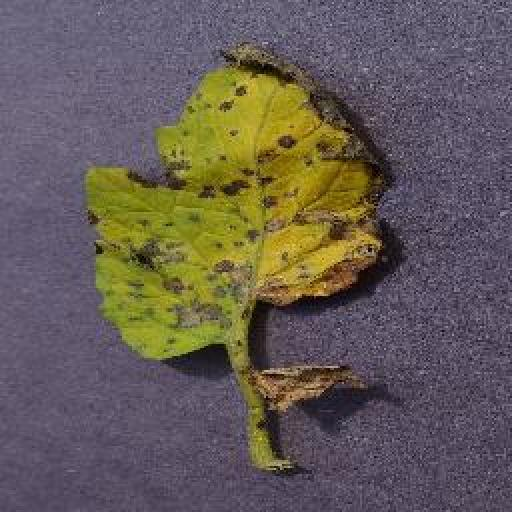disease_tomato: (89, 43, 392, 361)
